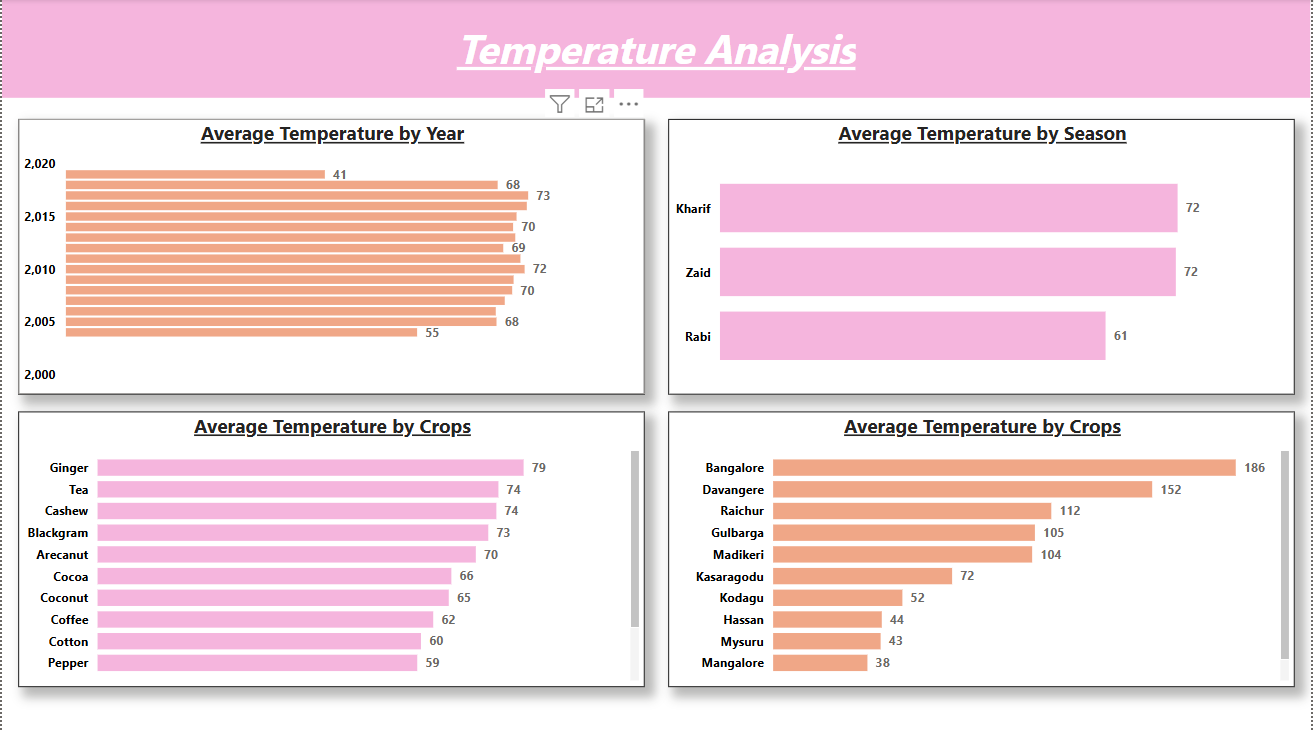

The dashboard page shown, as its layout file describes it:
{"tool":"powerbi","page":{"name":"Temperature  Analysis","canvas":[1280,720],"ordinal":1},"visuals":[{"type":"shape","box":[0,0,1279.7,96.7],"z":0},{"type":"barChart","title":"Average  Temperature by Year","fields":{"Category":["AGRICULTURE.YEAR"],"Y":["Avg(AGRICULTURE.TEMPERATURE)"]},"box":[15.9,116.9,613.2,269.8],"z":1000},{"type":"barChart","title":"Average  Temperature by Season","fields":{"Category":["AGRICULTURE.SEASON"],"Y":["Avg(AGRICULTURE.TEMPERATURE)"]},"box":[652.1,116.9,613.2,269.8],"z":2000},{"type":"barChart","title":"Average  Temperature by Crops","fields":{"Category":["AGRICULTURE.CROPS"],"Y":["Avg(AGRICULTURE.TEMPERATURE)"]},"box":[15.9,404,613.2,269.8],"z":3000},{"type":"barChart","title":"Average  Temperature by Crops","fields":{"Category":["AGRICULTURE.LOCATION"],"Y":["Avg(AGRICULTURE.TEMPERATURE)"]},"box":[652.1,404,613.2,269.8],"z":4000}]}

Visuals, with their boxes in screenshot pixels (x1, y1, x2, y2), scaled from the page's 1280x720 canvas onto the 1314x732 screenshot:
shape: x1=0 y1=0 x2=1313 y2=98
"Average  Temperature by Year" barChart: x1=16 y1=119 x2=646 y2=393
"Average  Temperature by Season" barChart: x1=669 y1=119 x2=1299 y2=393
"Average  Temperature by Crops" barChart: x1=16 y1=411 x2=646 y2=685
"Average  Temperature by Crops" barChart: x1=669 y1=411 x2=1299 y2=685
